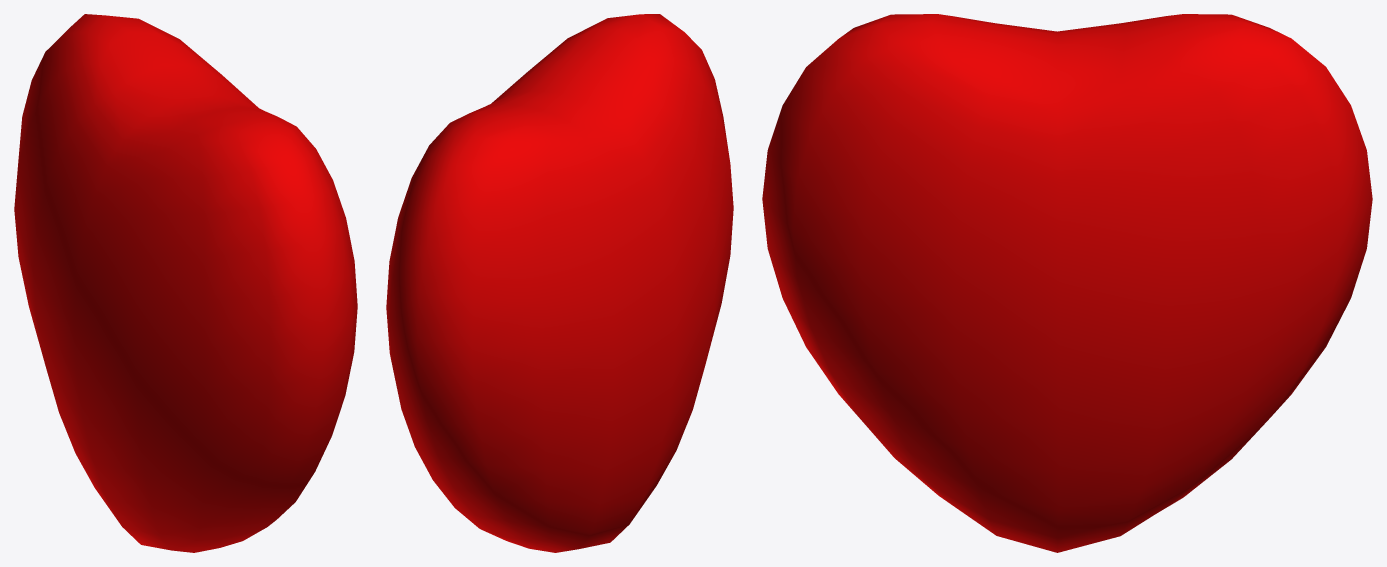
File: corazon FBX.fbx
3 renders of one model, left to right at view 1: azimuth 30°, elevation 25°; view 2: azimuth 150°, elevation 25°; view 3: azimuth 270°, elevation 25°, orthographic. The views are drawn at different scales.
Visible parts, largest first — view 1: pSphere2; view 2: pSphere2; view 3: pSphere2.
Boxes of the visible parts, bbox=[...] form: pSphere2: bbox=[14, 14, 357, 552]; pSphere2: bbox=[386, 14, 733, 552]; pSphere2: bbox=[762, 14, 1372, 552].
Size of the model in its own units: 1.11 by 2.14 by 2.29.
